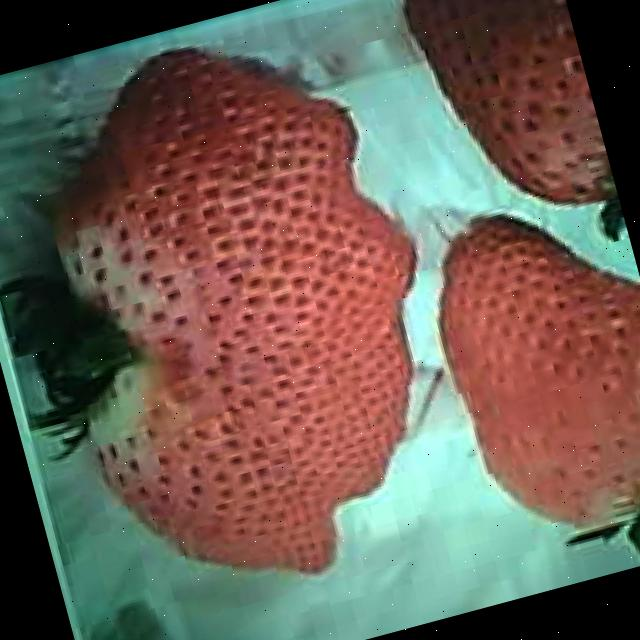strawberry: (412, 186, 640, 561)
